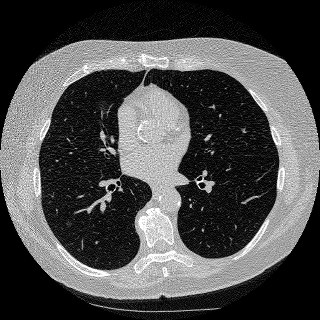nodule: (66, 222, 70, 226)
